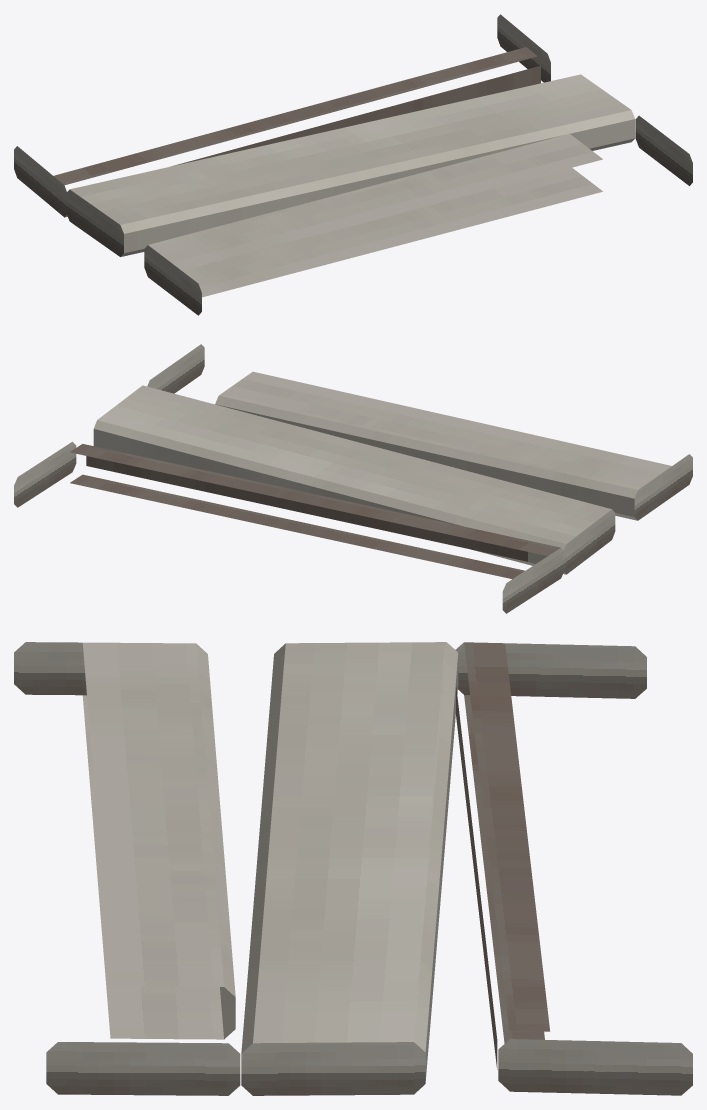
The picture shows the model from 3 angles, top to bottom: view 1: azimuth 30°, elevation 25°; view 2: azimuth 150°, elevation 25°; view 3: azimuth 270°, elevation 25°; orthographic projection. The views are drawn at different scales.
Bounding box in the file's own units: 0.98 × 0.07 × 0.7007.
